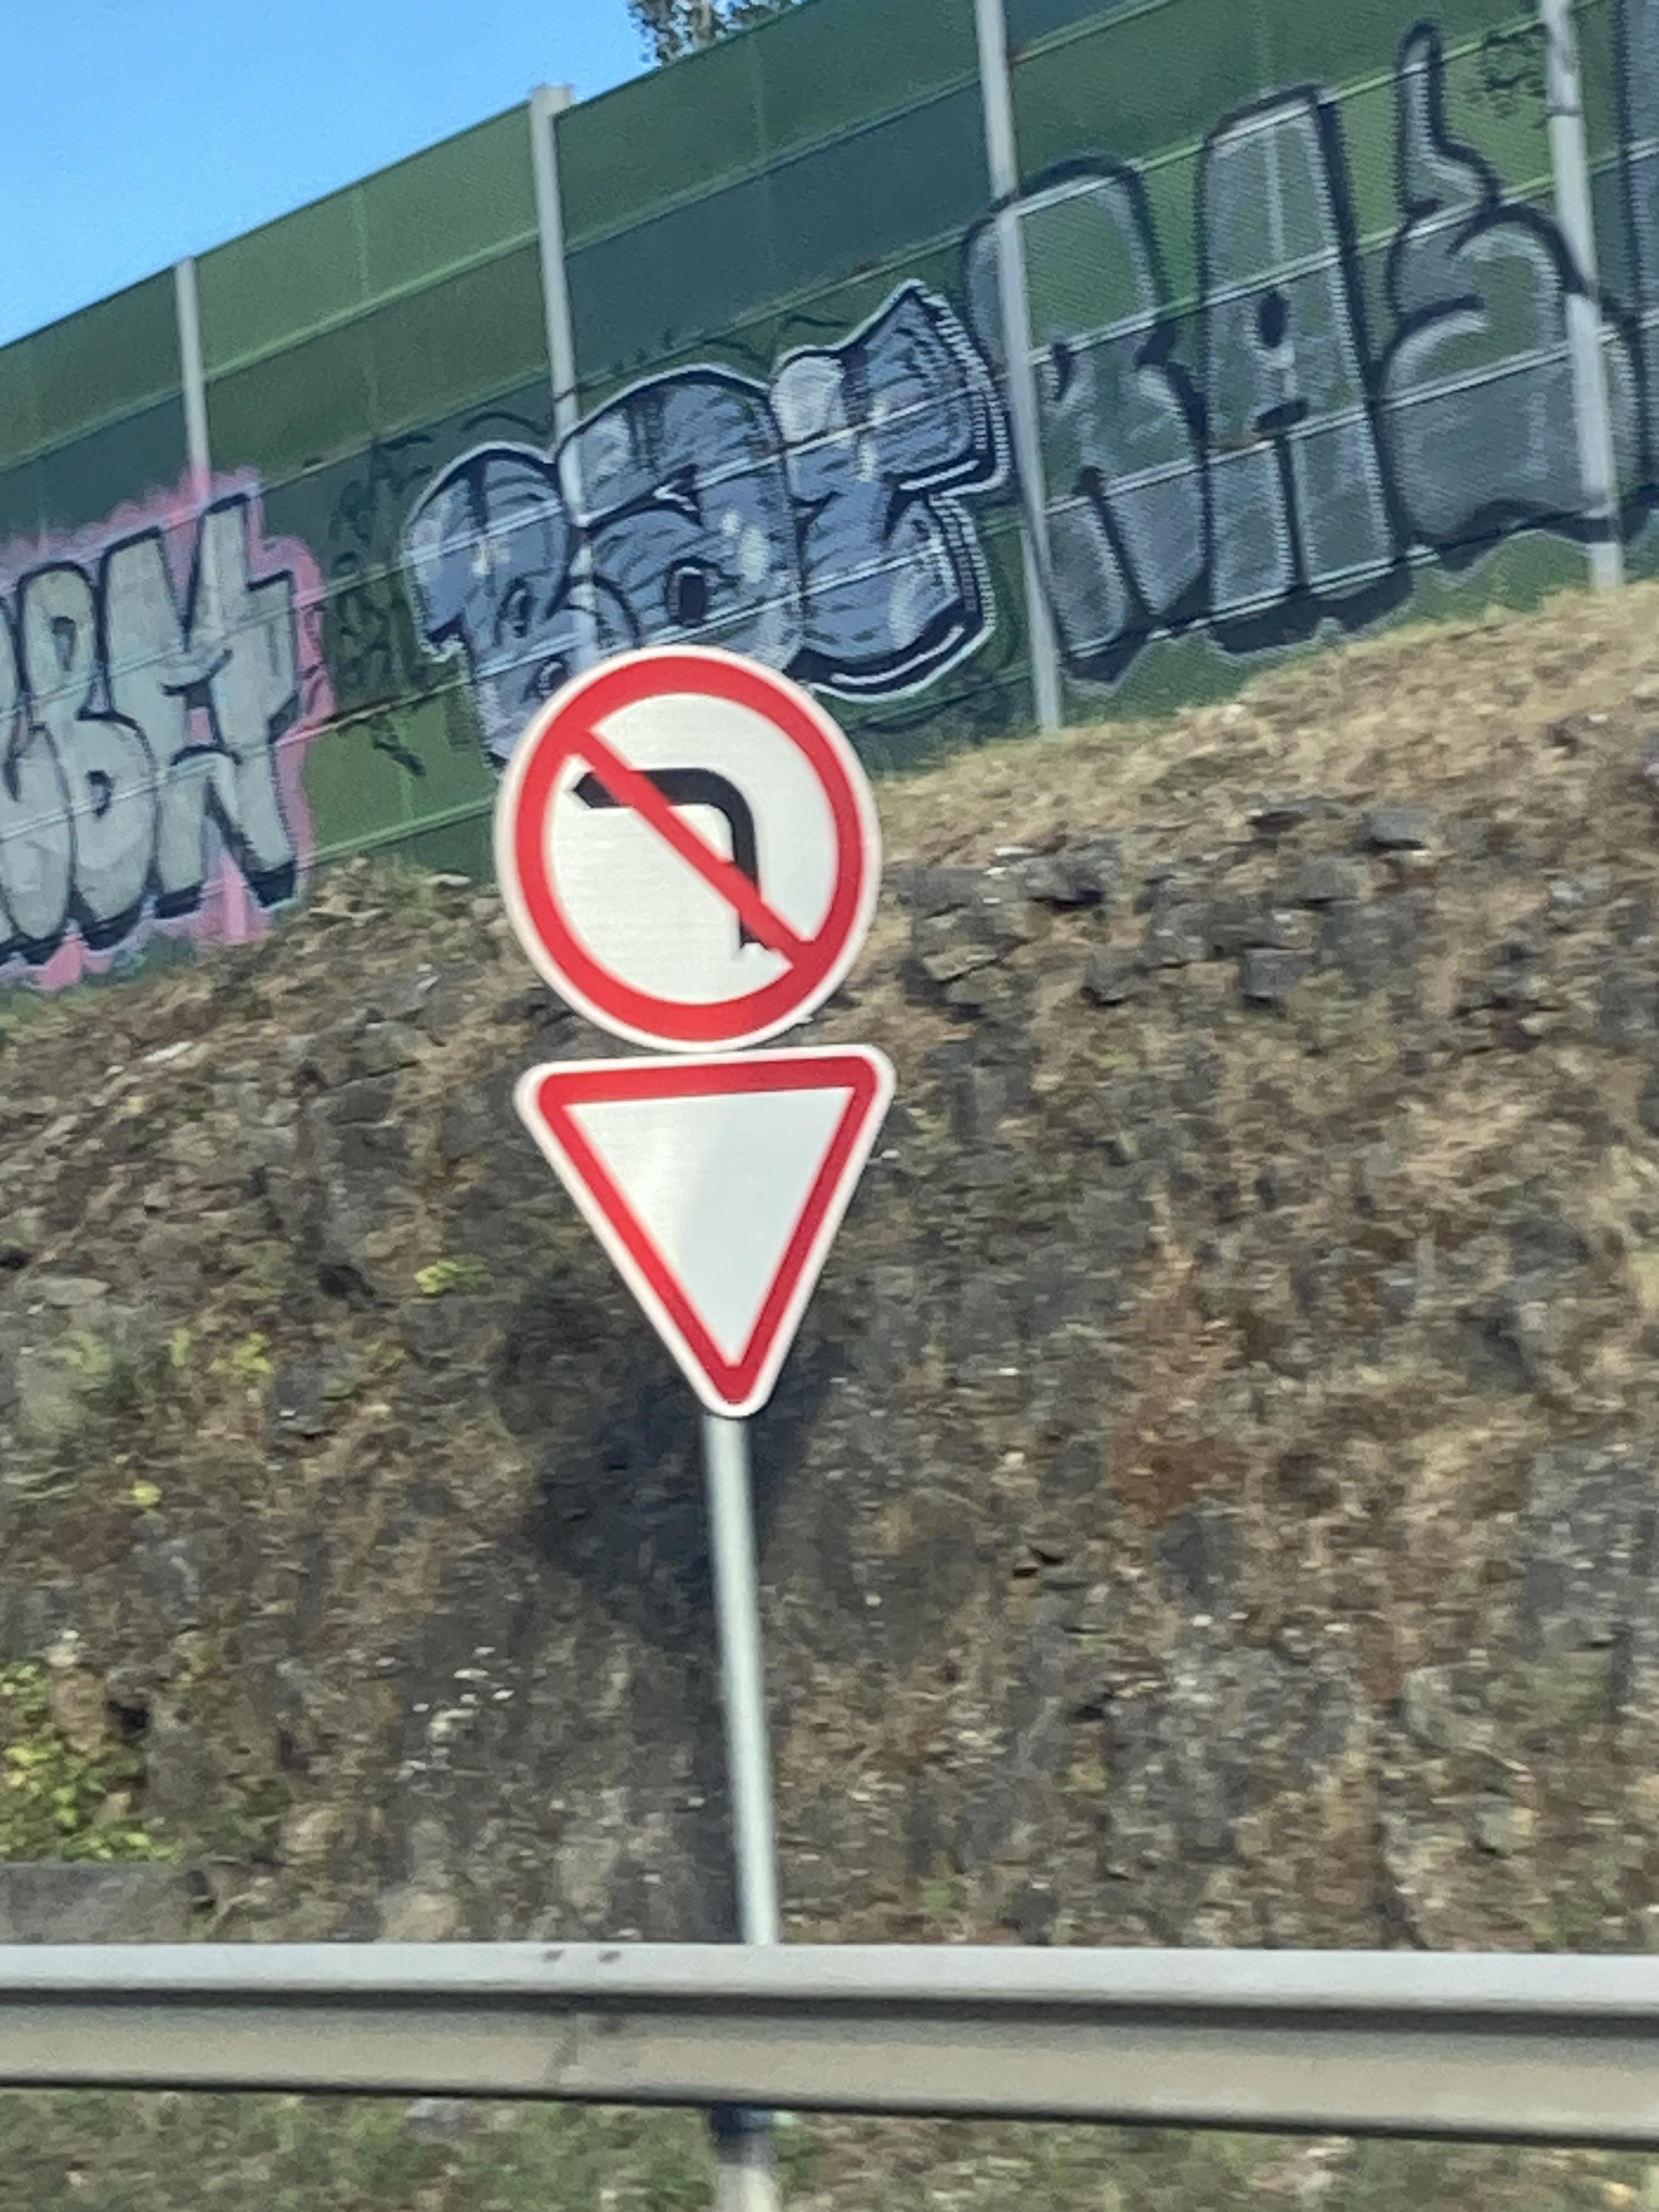cedencia de passagem: (486, 1064, 931, 1413)
proibicao de virar a esquerda: (486, 604, 931, 1040)
